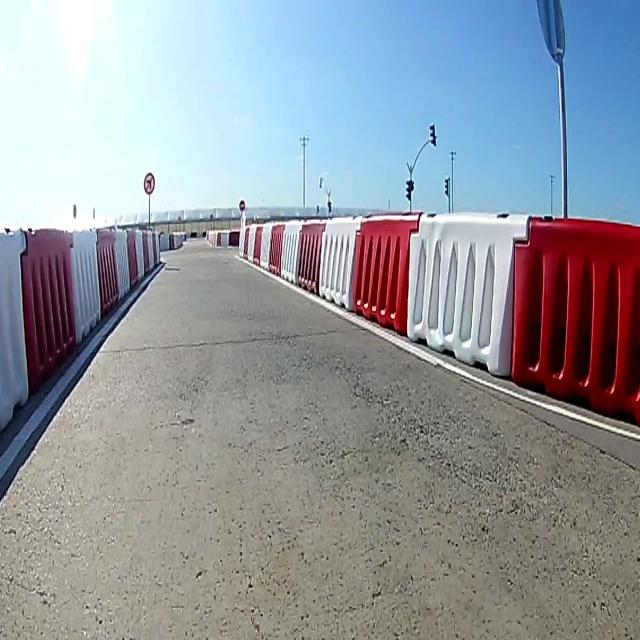soladonulmez: (144, 172, 153, 192)
